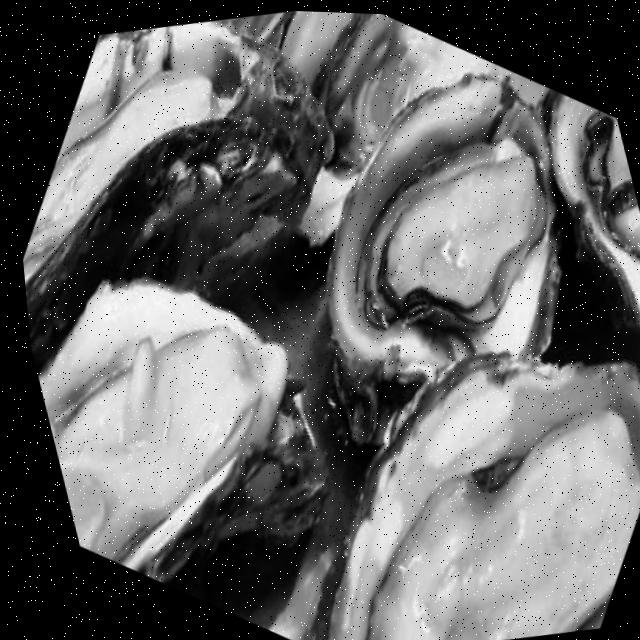Oyster-Open: (261, 54, 620, 459), (230, 313, 640, 640), (22, 252, 351, 601), (4, 47, 323, 385), (160, 6, 358, 245), (280, 10, 532, 192), (529, 78, 640, 337)
